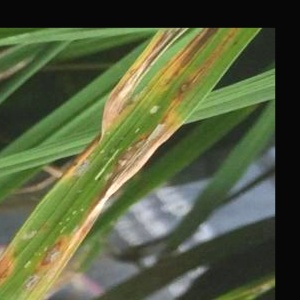Brown_Spot: (33, 239, 70, 267), (15, 270, 44, 289)
